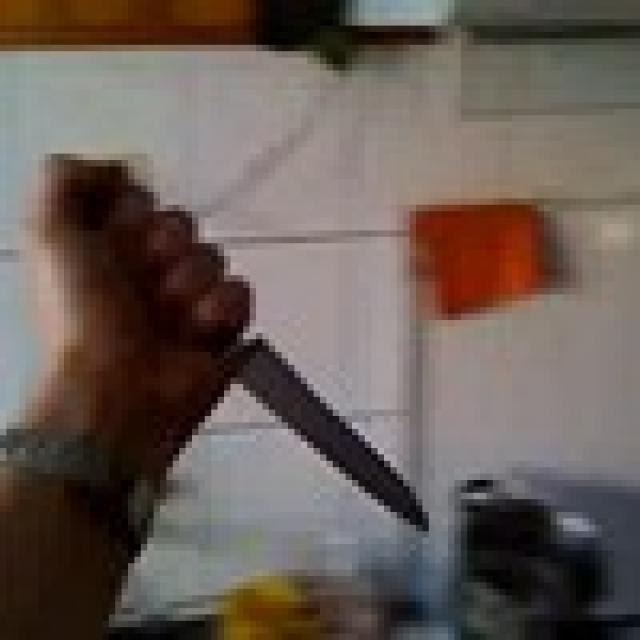Knife: (70, 154, 429, 544)
